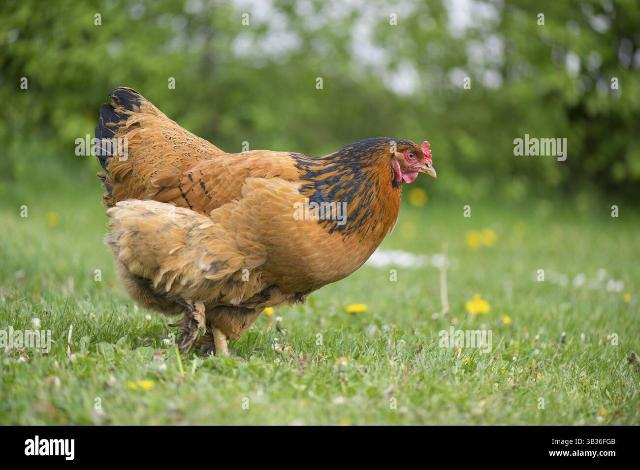Chicken: (93, 87, 440, 355)
